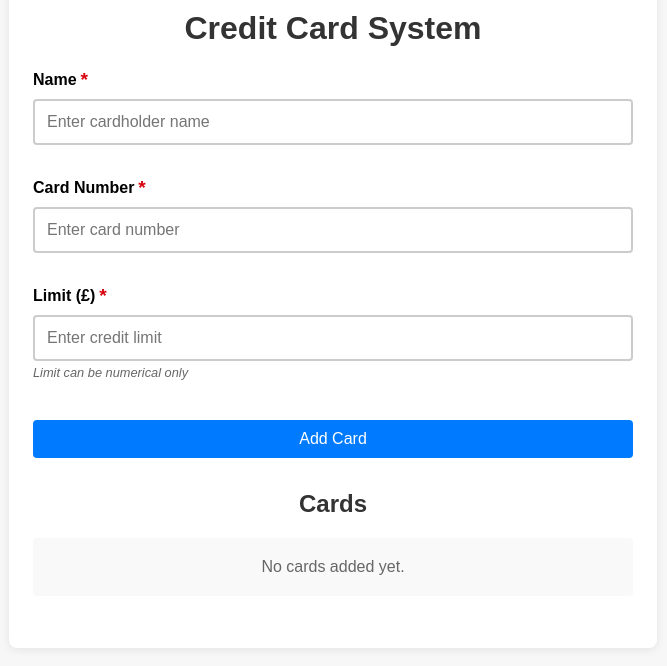
Credit Card System › handles API errors
The width and height of the screenshot is (667, 666).
# Fill out the form
Type "John Doe" into the field with placeholder "Enter cardholder name" at (333, 122), box x1=33 y1=99 x2=633 y2=145
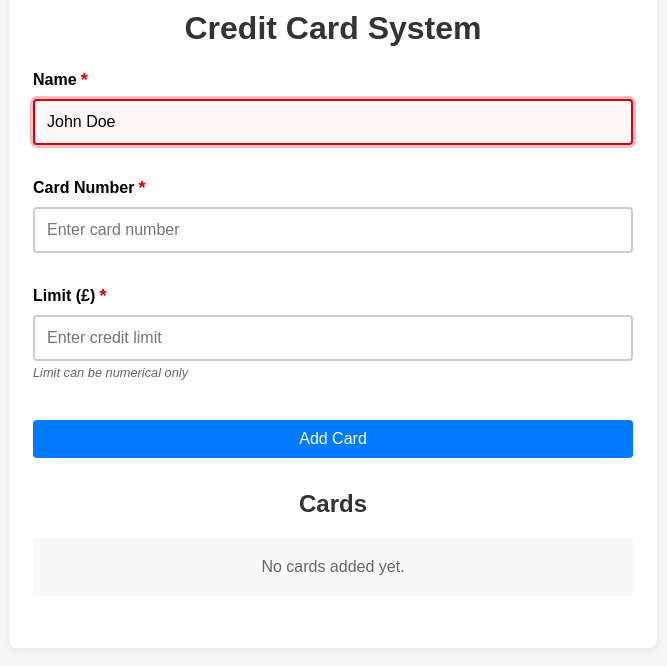
Type "4111111111111111" into the field with placeholder "Enter card number" at (333, 230), box x1=33 y1=207 x2=633 y2=253
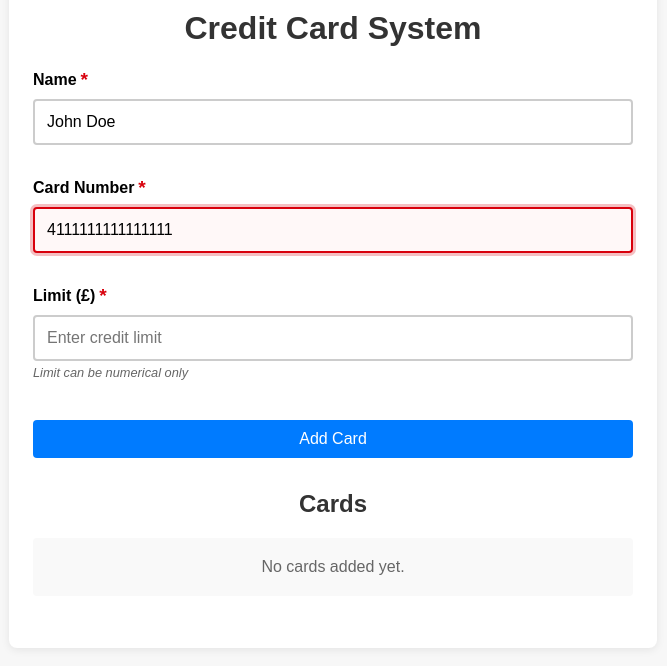
Type "1000" into the field with placeholder "Enter credit limit" at (333, 338), box x1=33 y1=315 x2=633 y2=361
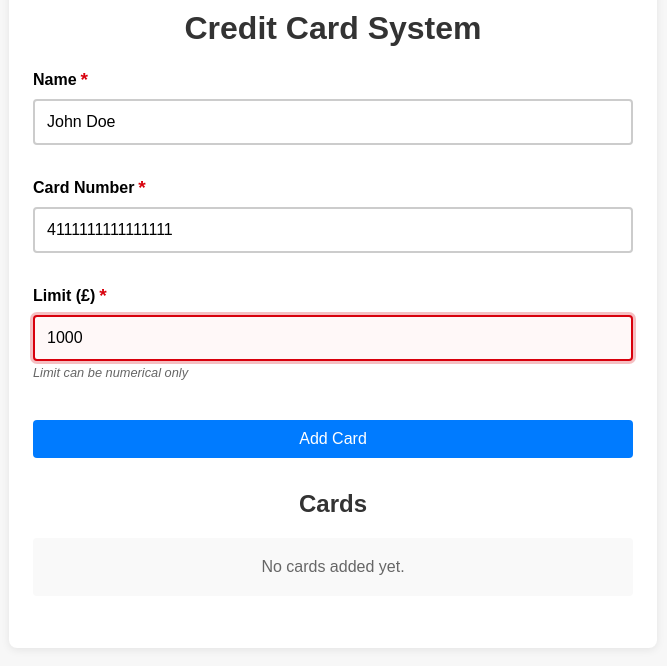
# Submit the form
Click the button "Add Card" at (333, 439), box x1=33 y1=420 x2=633 y2=458
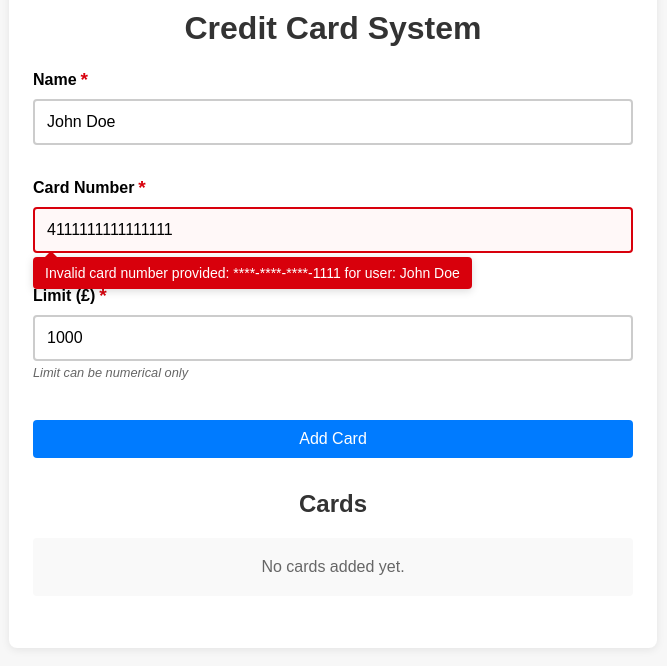
Expected: the text "Invalid card number provided: ****-****-****-1111 for user: John Doe" is shown, x1=33 y1=257 x2=472 y2=289
